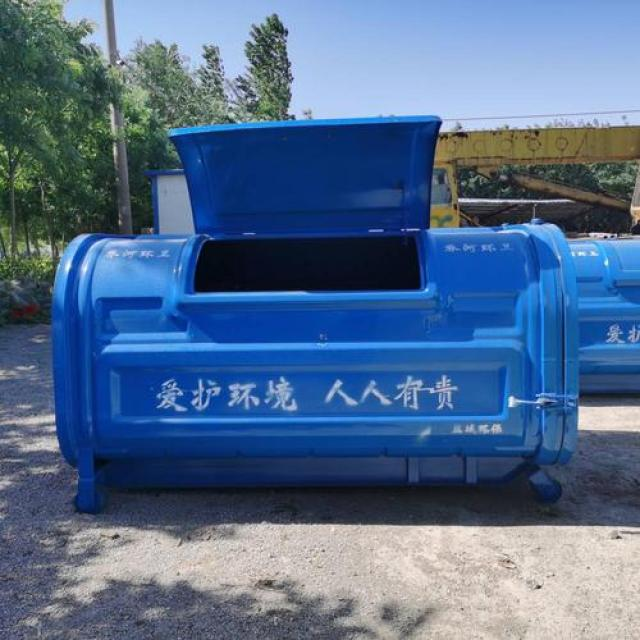garbage_bin: (49, 216, 577, 512)
